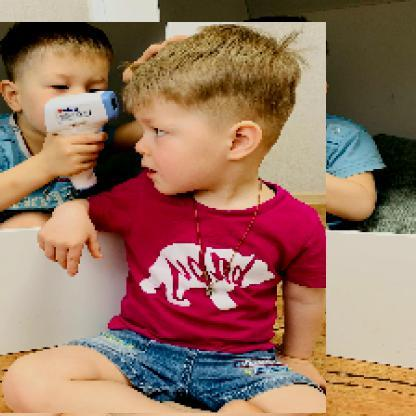child: (1, 23, 328, 415), (190, 15, 391, 231)
